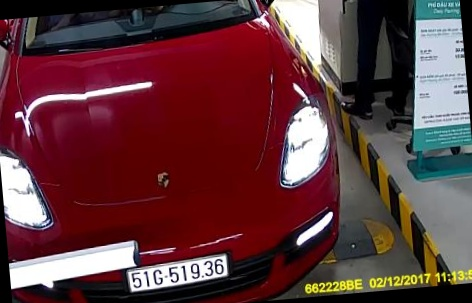plate: (119, 253, 237, 292)
